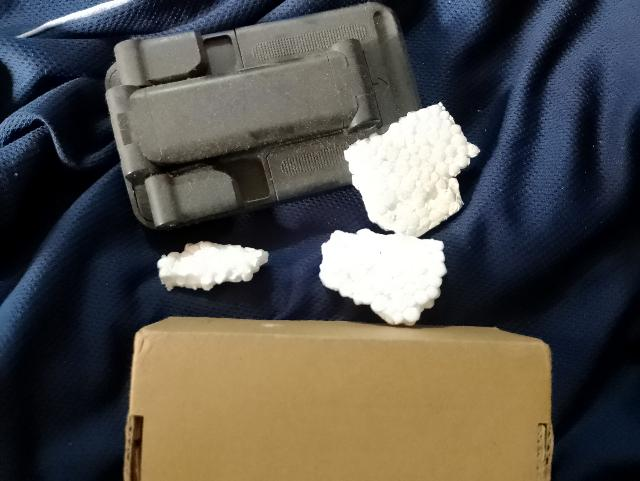cocksheet: (346, 100, 479, 236), (316, 224, 454, 326), (156, 236, 260, 288)
